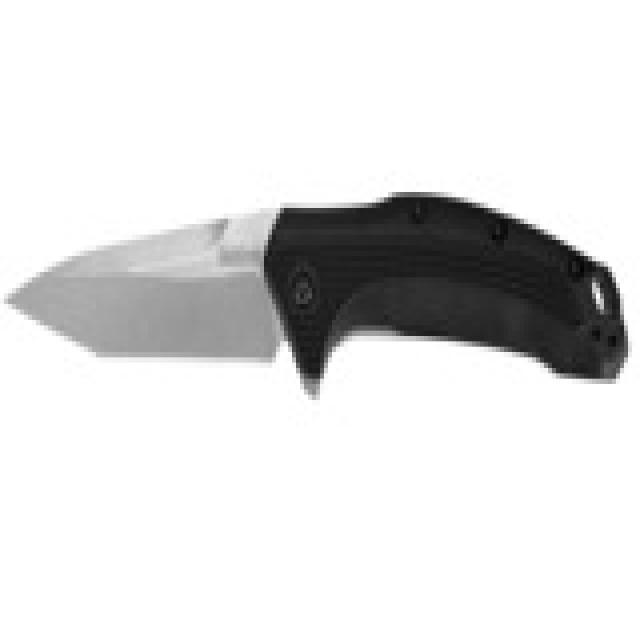Knife: (0, 187, 640, 400)
